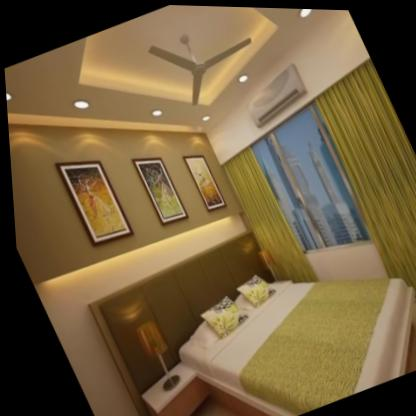Bed: (142, 205, 416, 416)
Frame: (45, 140, 136, 254), (124, 142, 191, 232), (174, 142, 230, 219)
Lamp: (121, 307, 183, 396)
Nightstand: (121, 352, 217, 416)
